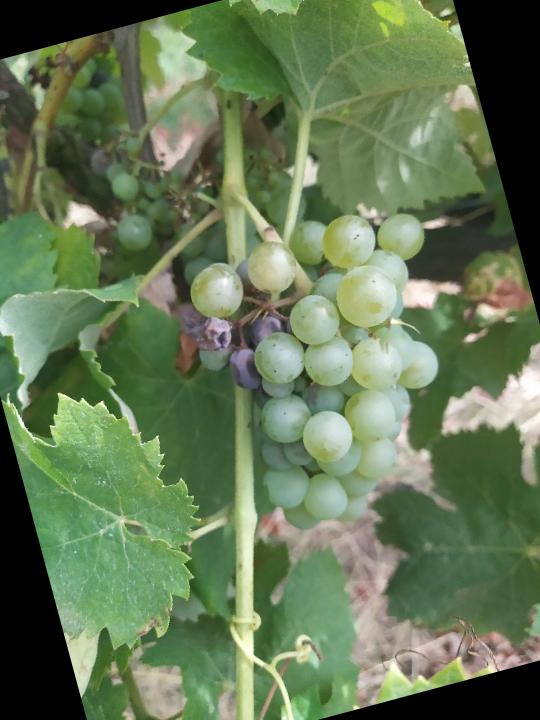grape: (162, 188, 495, 553)
